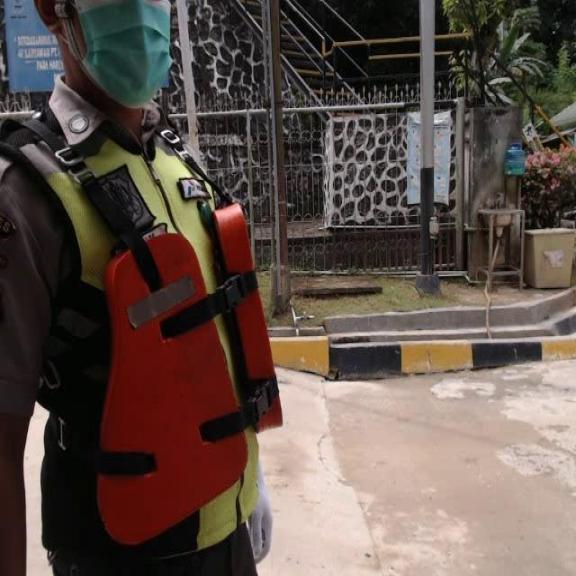safety_vest: (99, 200, 290, 536)
